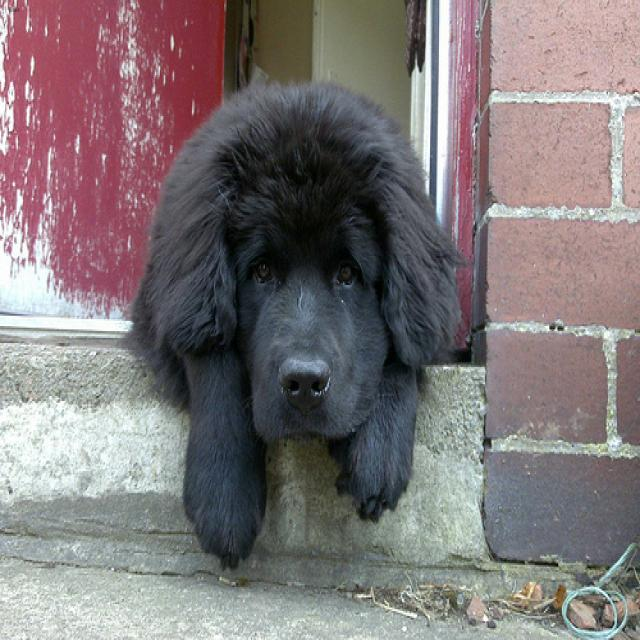dog-newfoundland: (111, 65, 475, 579)
